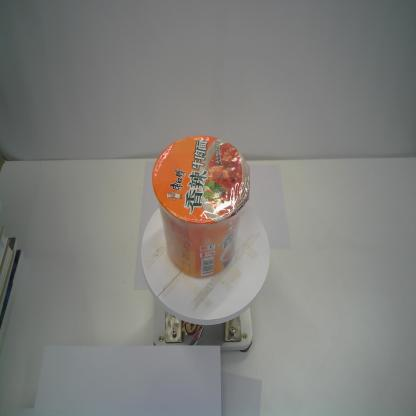Instant Noodles: (150, 134, 251, 280)
